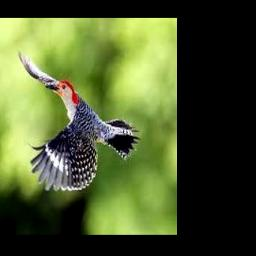Woodpecker: (18, 49, 139, 191)
